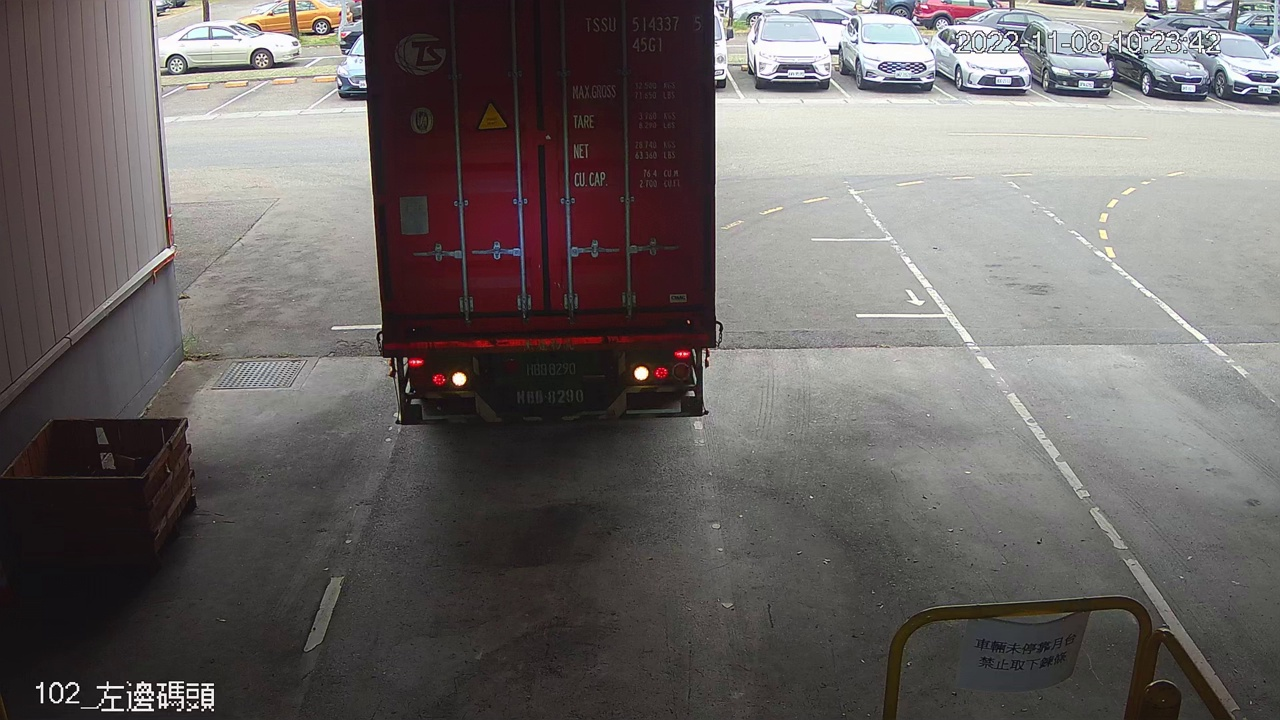container: (579, 9, 709, 59)
